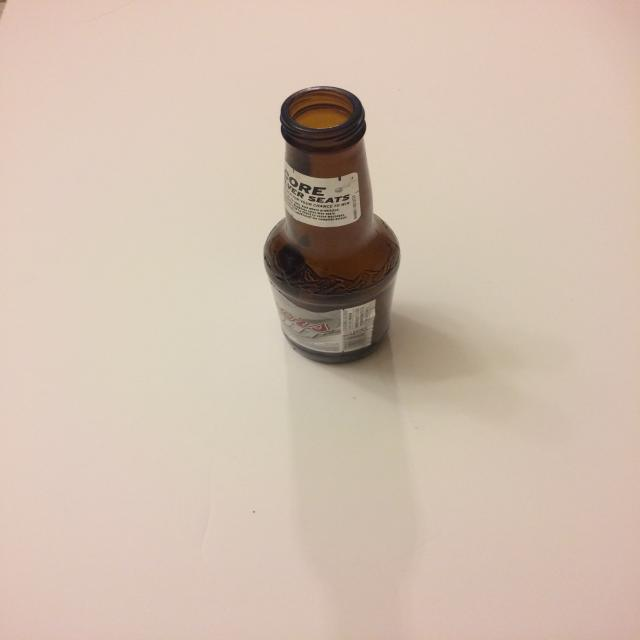Glass: (255, 80, 414, 369)
